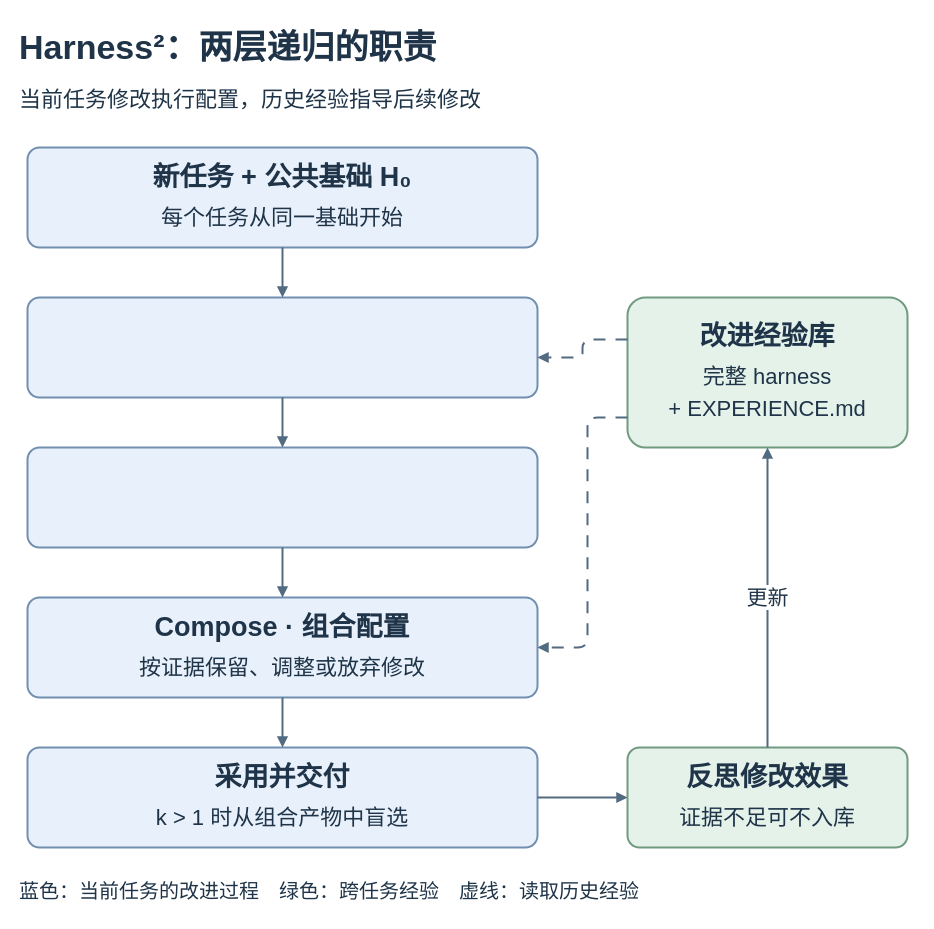
This 934x929 diagram has some shape labels left out. The box of each missing label's shape, as (x1, y1, x2, y2) in pixels:
Probe · 同任务试跑 对照参考轨迹、候选轨迹与产物: (26, 446, 538, 548)
Propose · 提出修改 INV 通用候选 / DOM 领域候选: (26, 296, 538, 398)
